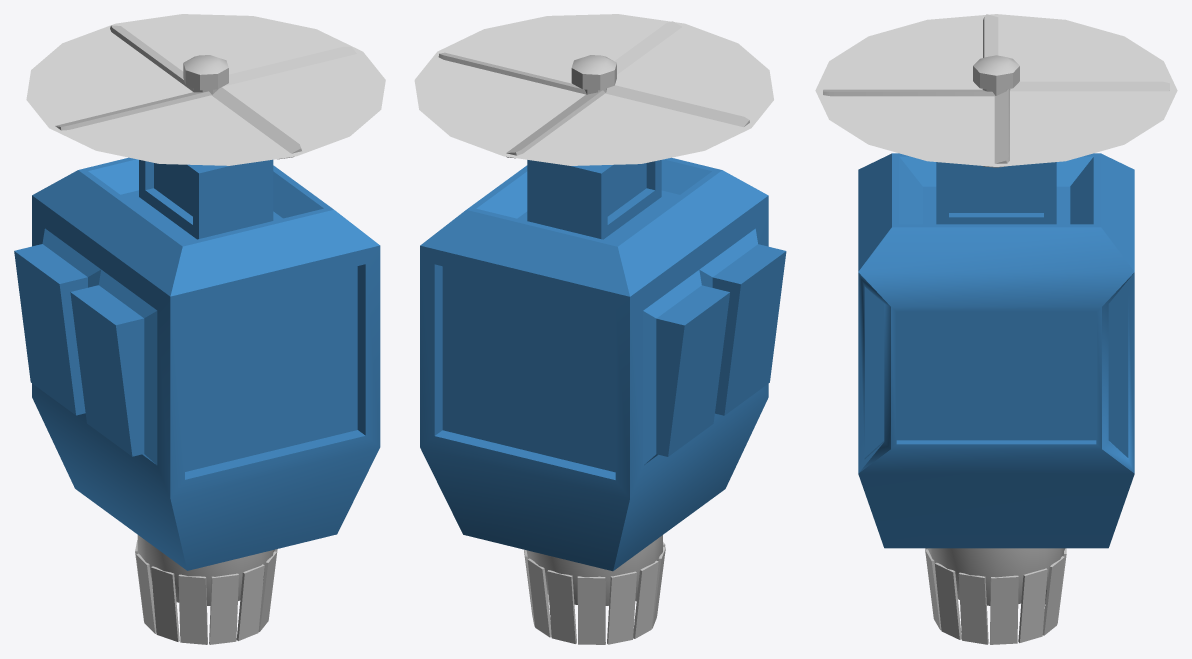
The model's file is Assistent_v2.fbx.
3 renders of one model, left to right at view 1: azimuth 30°, elevation 25°; view 2: azimuth 150°, elevation 25°; view 3: azimuth 270°, elevation 25°, orthographic.
Visible parts, largest first — view 1: Body, PropellerPlate, PropellerPlate2, JetControl, Jet, Zylinder_1, Würfel_1_4, Würfel_1_3, Würfel_1_2, Würfel_1_1; view 2: Body, PropellerPlate, PropellerPlate2, JetControl, Jet, Würfel_1_2, Zylinder_1, Würfel_1_1, Würfel_1_4, Würfel_1_3; view 3: Body, PropellerPlate, PropellerPlate2, JetControl, Jet, Würfel_1_1, Zylinder_1, Würfel_1_3, Würfel_1_4, Würfel_1_2.
Boxes of the visible parts, <box> form: Body: <box>14,157,380,570</box>; PropellerPlate: <box>26,14,385,165</box>; PropellerPlate2: <box>27,14,384,165</box>; JetControl: <box>135,540,277,644</box>; Jet: <box>137,535,273,605</box>; Zylinder_1: <box>183,55,228,94</box>; Würfel_1_4: <box>223,46,356,86</box>; Würfel_1_3: <box>211,87,301,159</box>; Würfel_1_2: <box>55,91,211,130</box>; Würfel_1_1: <box>110,25,193,91</box>; Body: <box>420,157,786,571</box>; PropellerPlate: <box>414,14,773,165</box>; PropellerPlate2: <box>415,14,773,165</box>; JetControl: <box>524,542,665,644</box>; Jet: <box>526,535,662,605</box>; Würfel_1_2: <box>605,85,749,127</box>; Zylinder_1: <box>571,55,616,94</box>; Würfel_1_1: <box>506,90,605,158</box>; Würfel_1_4: <box>438,52,586,94</box>; Würfel_1_3: <box>614,21,681,74</box>; Body: <box>858,153,1134,548</box>; PropellerPlate: <box>815,14,1177,166</box>; PropellerPlate2: <box>816,14,1176,166</box>; JetControl: <box>925,548,1066,644</box>; Jet: <box>927,548,1065,605</box>; Würfel_1_1: <box>1010,81,1169,91</box>; Zylinder_1: <box>973,55,1019,95</box>; Würfel_1_3: <box>823,89,995,96</box>; Würfel_1_4: <box>983,89,1009,167</box>; Würfel_1_2: <box>983,14,998,57</box>.
Bounding box in the file's own units: 262 × 445 × 262.
